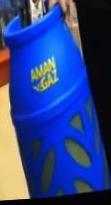cylinder: (1, 1, 111, 205)
